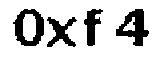0: (13, 7, 45, 51)
4: (116, 6, 150, 52)
f: (81, 6, 107, 50)
x: (47, 14, 78, 50)
